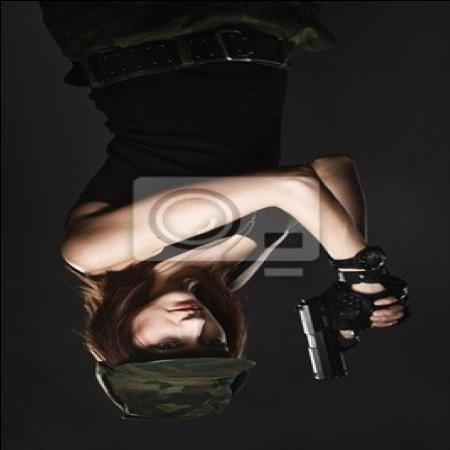Pistol: (292, 290, 384, 384)
